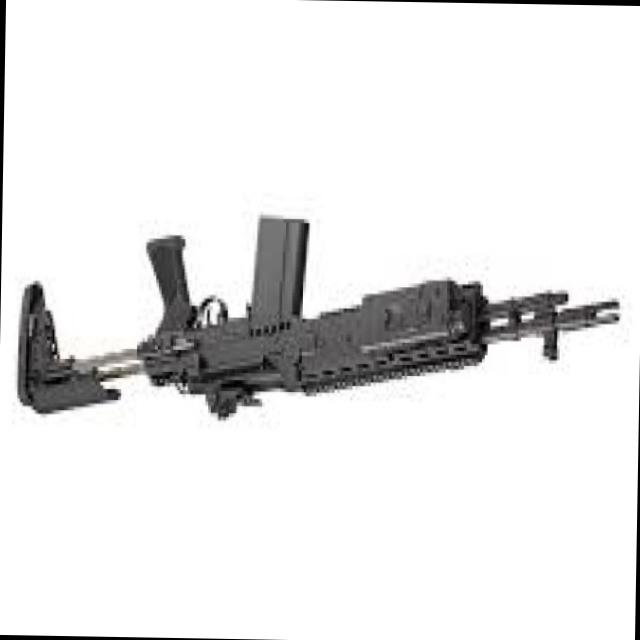Gun: (0, 144, 637, 499)
